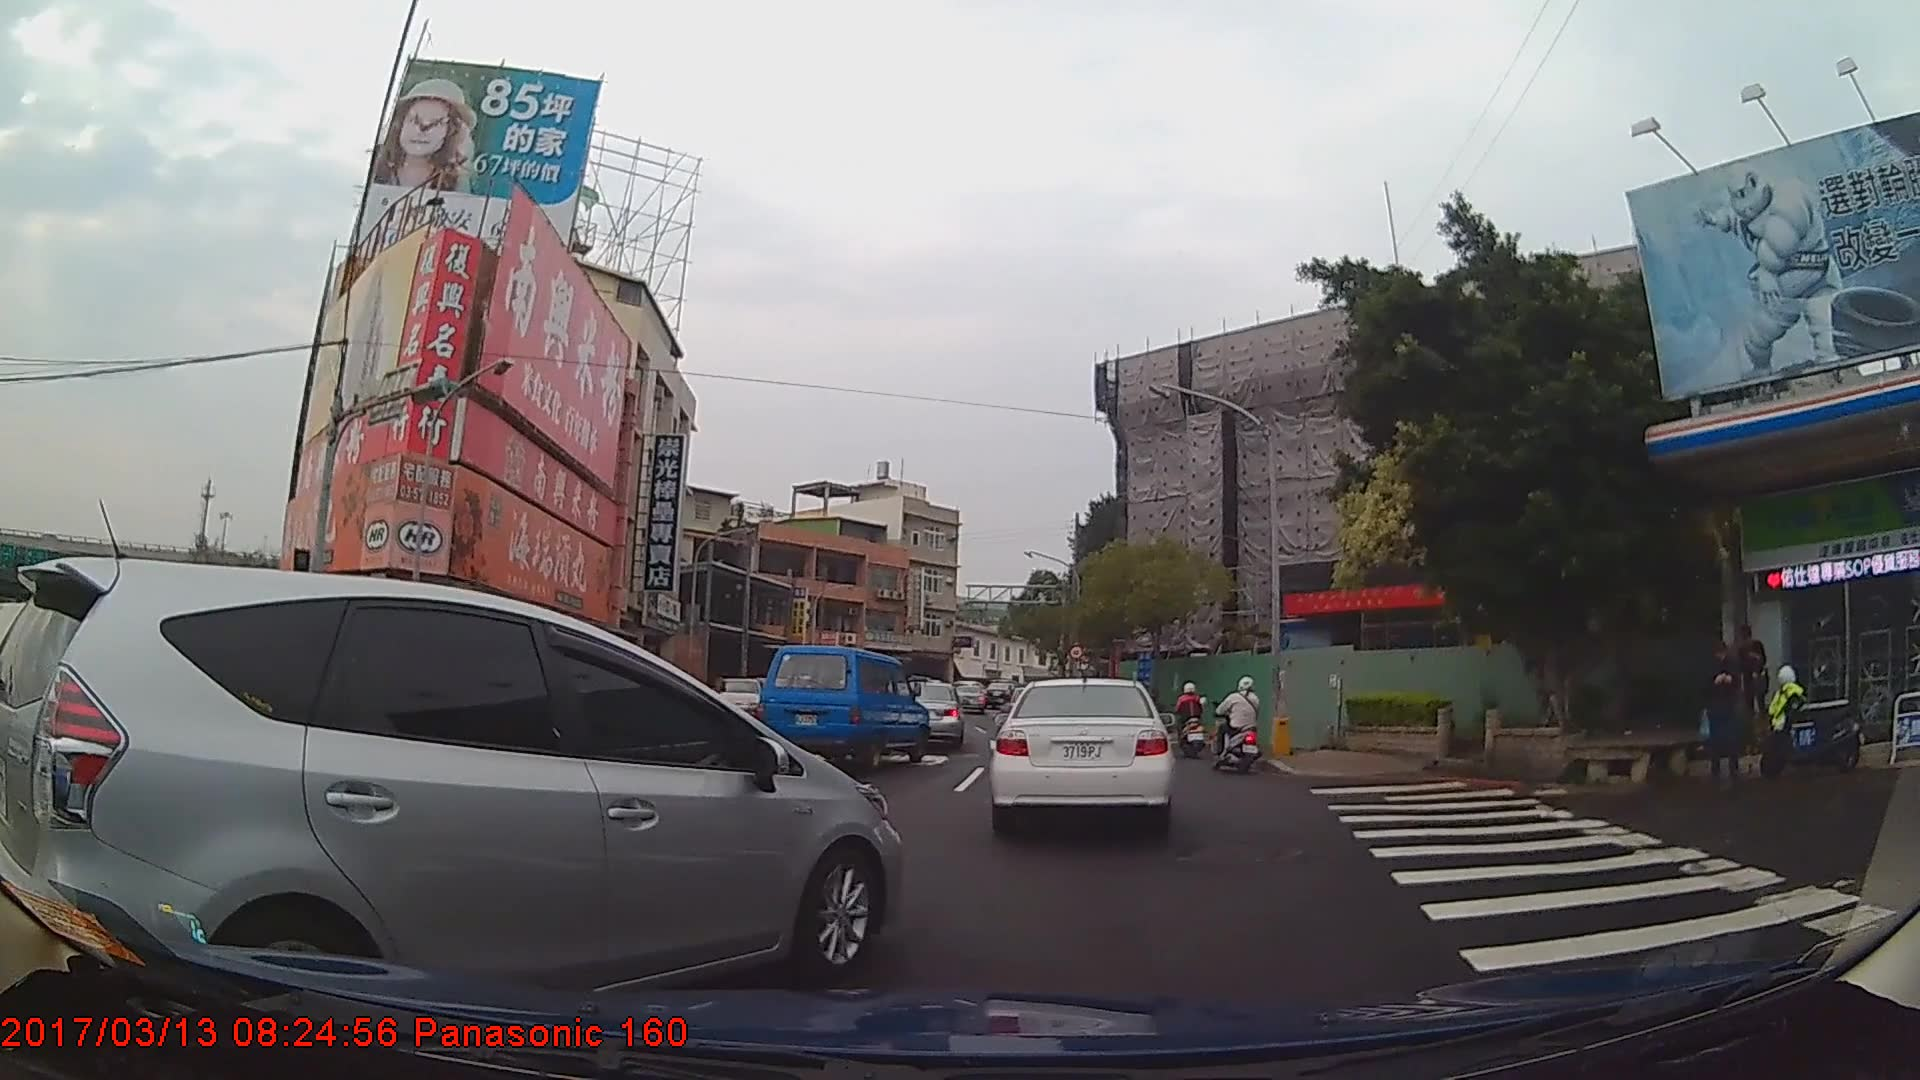pedestrian: (1700, 641, 1745, 788), (1730, 621, 1772, 746)
rider: (1213, 673, 1265, 773), (1174, 681, 1209, 759)
vehicle: (2, 556, 903, 1028), (988, 676, 1178, 838), (759, 643, 930, 769), (893, 680, 967, 749), (710, 675, 767, 722)
